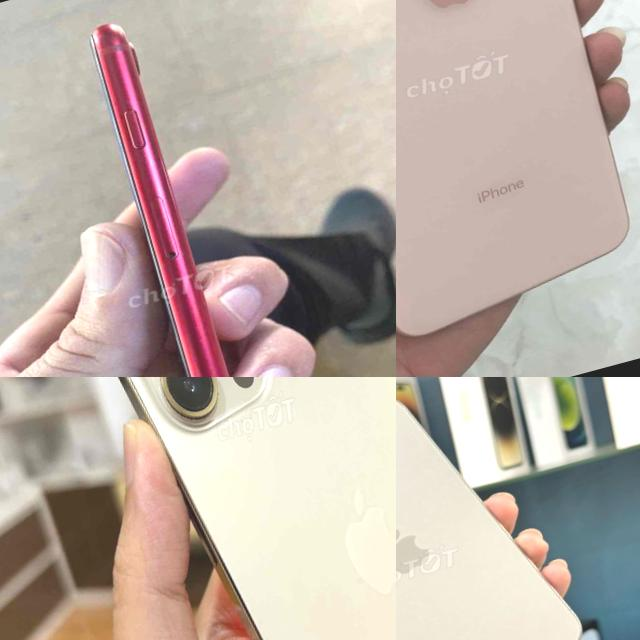gen_12_13: (69, 377, 396, 640)
gen_15: (396, 377, 610, 640)
gen_7_8: (396, 0, 640, 351), (67, 8, 285, 377)
